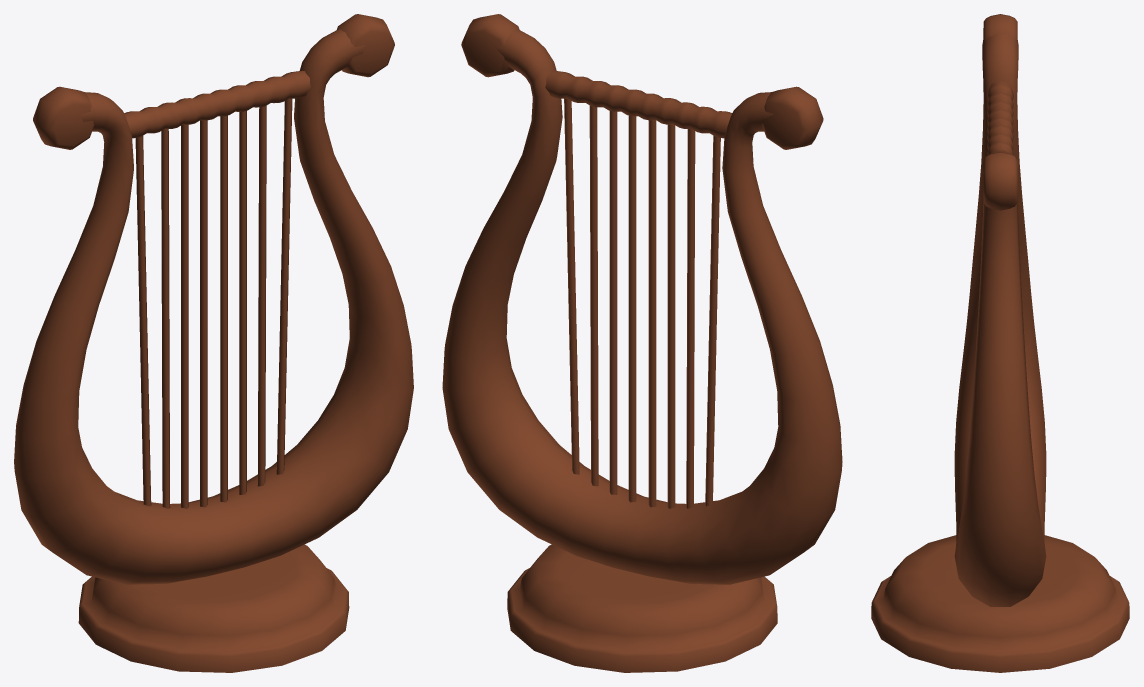
The model's file is Harpa.fbx.
3 views of the same model, side by side, from view 1: azimuth 30°, elevation 25°; view 2: azimuth 150°, elevation 25°; view 3: azimuth 270°, elevation 25° (orthographic). The views are drawn at different scales.
Parts seen in each view (by area): view 1: Harpa; view 2: Harpa; view 3: Harpa.
Boxes of the visible parts, x1,y1,x2,y2 form: Harpa: (14, 14, 413, 672); Harpa: (442, 14, 842, 672); Harpa: (871, 14, 1129, 672).
Size of the model in its own units: 159 by 220 by 96.43.
